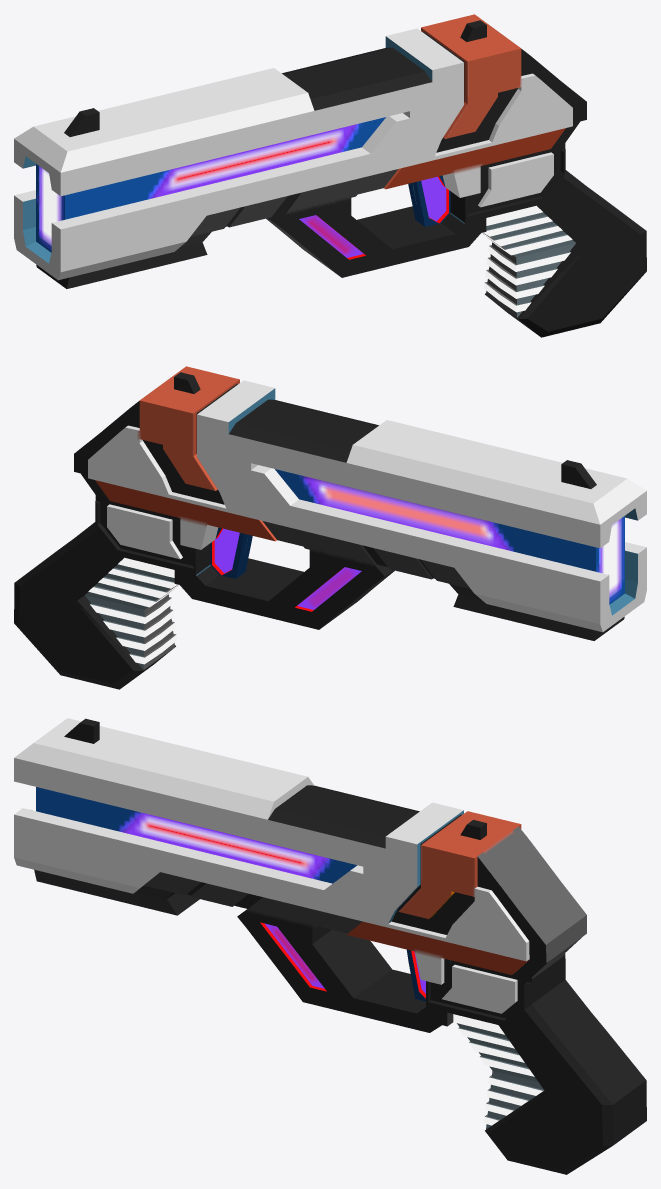
Rendered from Gun.fbx.
3 views of the same model, one above another, from view 1: azimuth 30°, elevation 25°; view 2: azimuth 150°, elevation 25°; view 3: azimuth 330°, elevation 25° (orthographic).
Parts seen in each view (by area): view 1: Gun_Baked; view 2: Gun_Baked; view 3: Gun_Baked.
Part boxes in pixels (x1,y1,x2,y2): Gun_Baked: (14, 14, 646, 337); Gun_Baked: (14, 366, 646, 689); Gun_Baked: (14, 718, 646, 1174).
Size of the model in its own units: 0.045 by 0.1698 by 0.3297.
